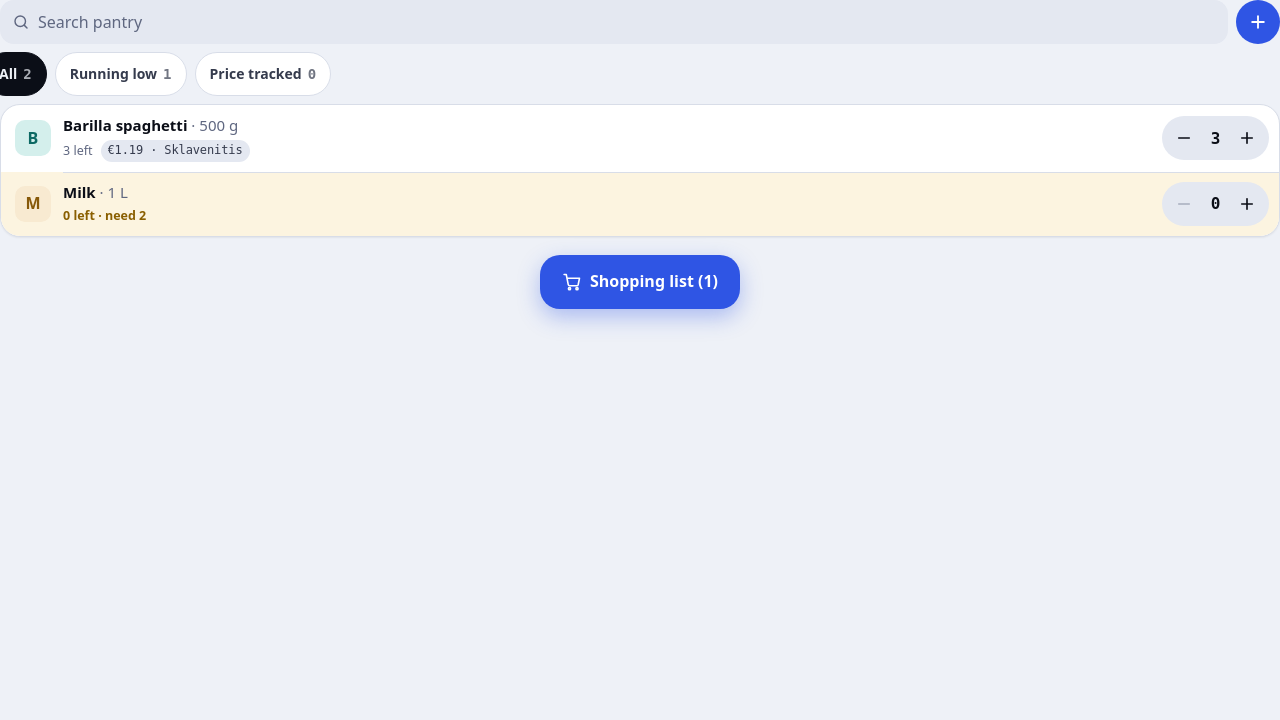
Scenario: ＋ opens Add to pantry
Check: the list item "Milk" is shown, box x1=1 y1=172 x2=1279 y2=236
Click the button named "Add to pantry" at (1258, 22), box x1=1236 y1=0 x2=1279 y2=44
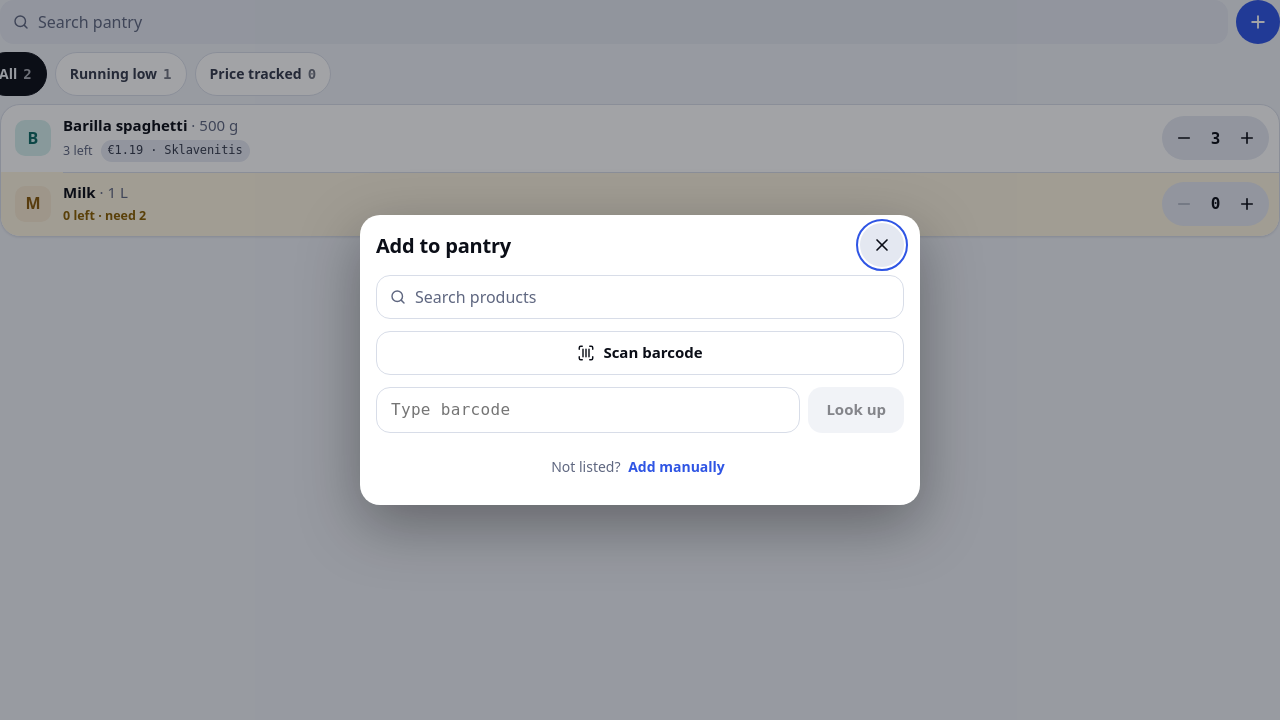
Check: the dialog "Add to pantry" is shown, box x1=360 y1=215 x2=920 y2=505
Click the button named "Close" at (882, 245), box x1=860 y1=223 x2=904 y2=267
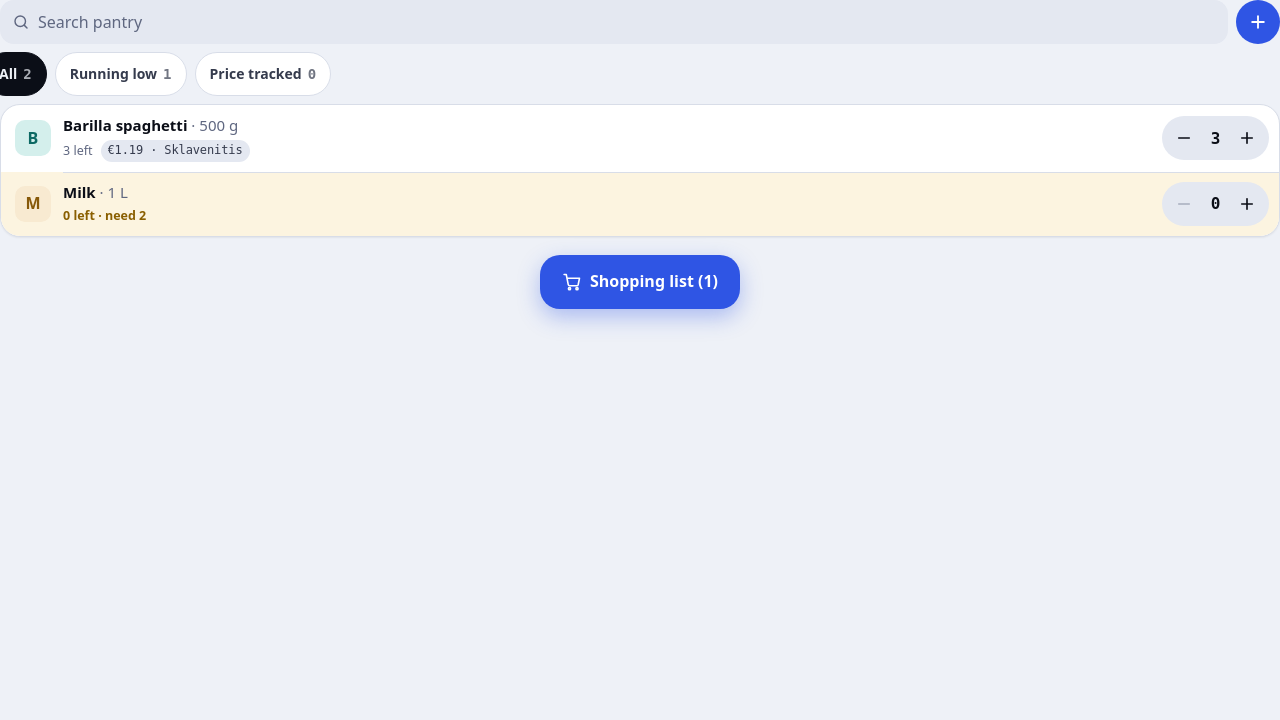
Check: the heading "Add to pantry" is gone
